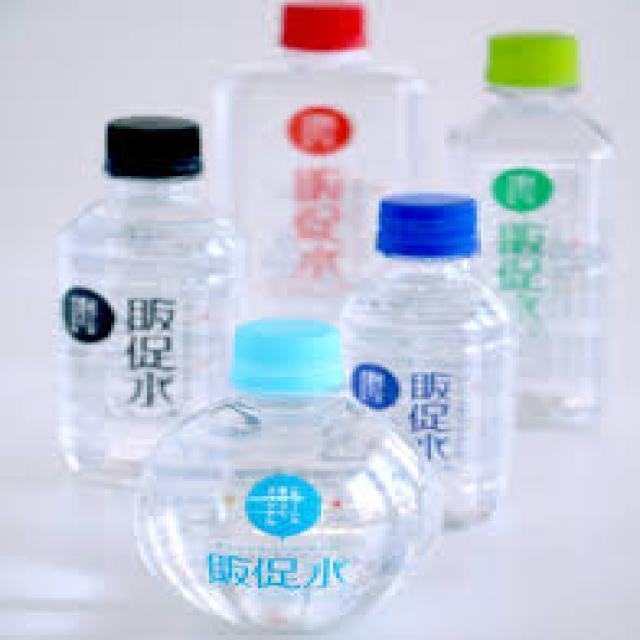Plastic: (134, 317, 434, 635), (443, 31, 620, 432), (61, 115, 249, 489), (216, 0, 425, 321), (333, 194, 510, 533)
